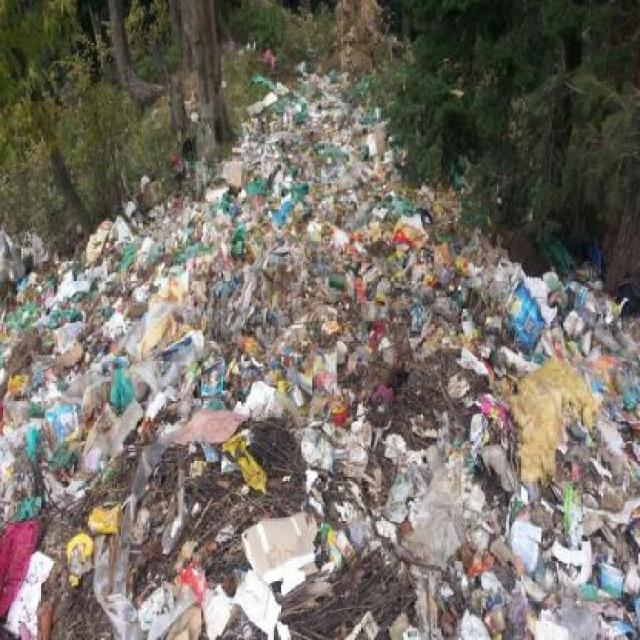garbage: (0, 79, 369, 640), (239, 250, 640, 639)
